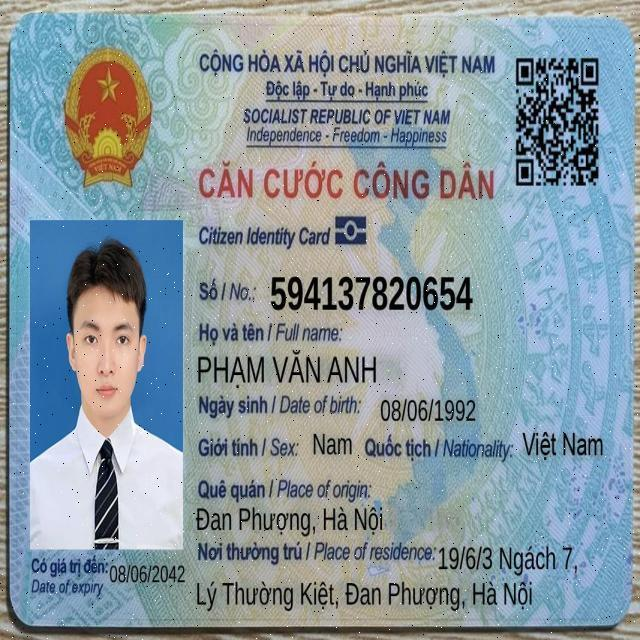current_place: (194, 577, 534, 616), (436, 542, 579, 578)
dob: (379, 396, 478, 424)
expire_date: (108, 562, 186, 587)
gender: (312, 429, 354, 459)
id: (268, 271, 476, 315)
name: (196, 346, 379, 392)
nationality: (520, 429, 604, 463)
origin_place: (194, 503, 385, 539)
